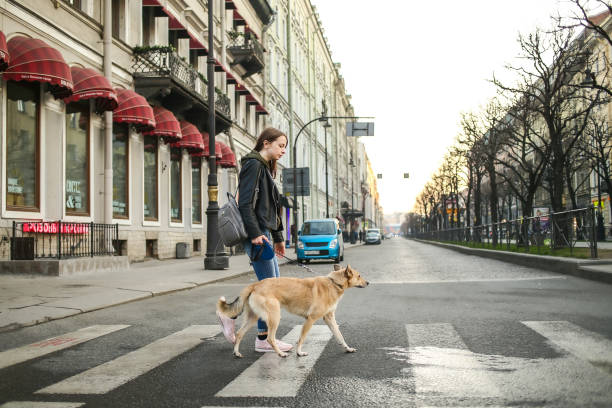kopek: (203, 260, 378, 381)
otomobil: (281, 176, 348, 272)
yaya: (221, 129, 305, 298)
